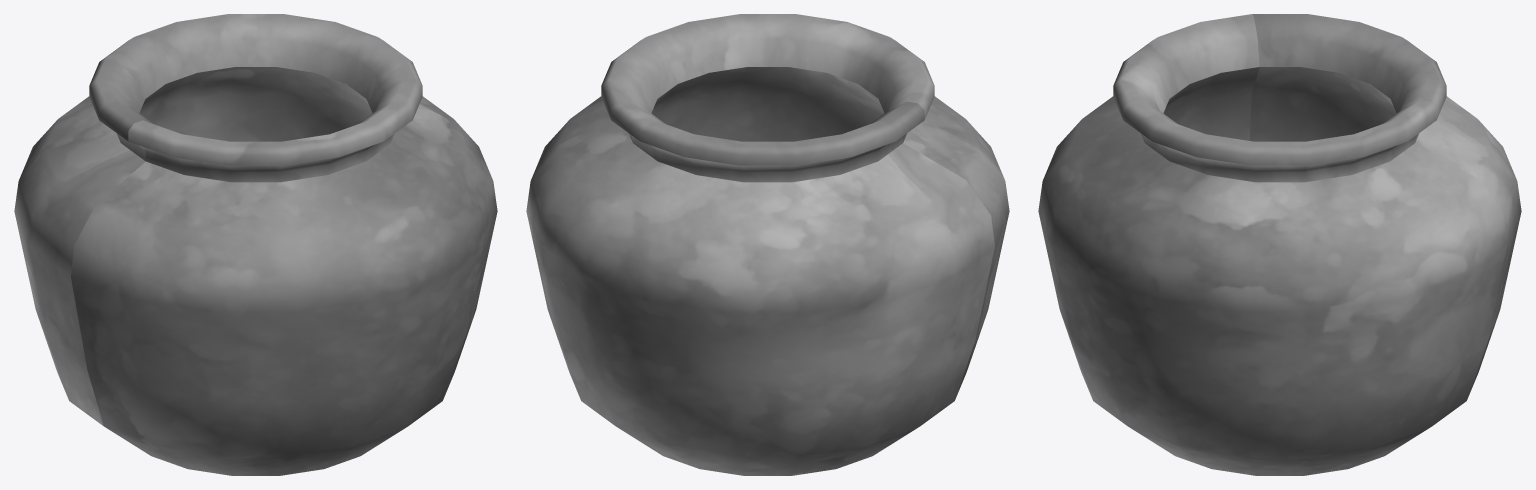
File: SM_TerraPots_01a.fbx
3 views of the same model, side by side, from view 1: azimuth 30°, elevation 25°; view 2: azimuth 150°, elevation 25°; view 3: azimuth 270°, elevation 25° (orthographic).
Visible parts, largest first — view 1: SM_TerraPots_01a_LOD0; view 2: SM_TerraPots_01a_LOD0; view 3: SM_TerraPots_01a_LOD0.
Boxes of the visible parts, x1,y1,x2,y2 form: SM_TerraPots_01a_LOD0: [14, 14, 497, 475]; SM_TerraPots_01a_LOD0: [526, 14, 1009, 475]; SM_TerraPots_01a_LOD0: [1038, 14, 1521, 475].
Size of the model in its own units: 49.04 by 49.79 by 38.53.
